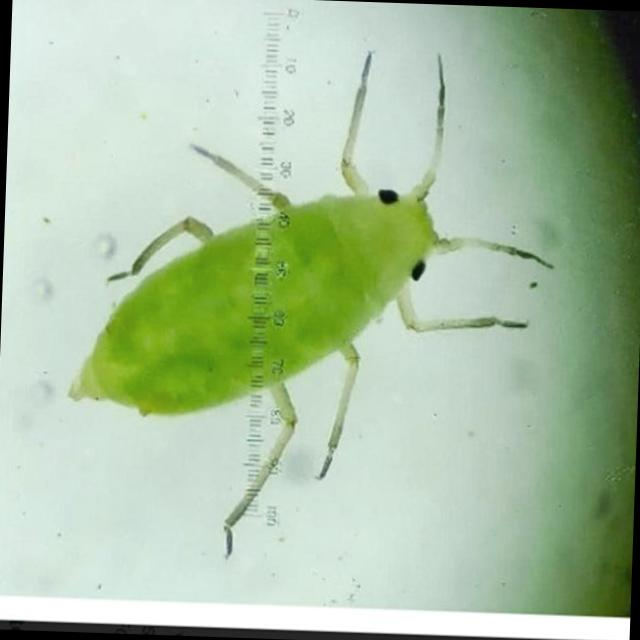aphid: (44, 33, 568, 584)
